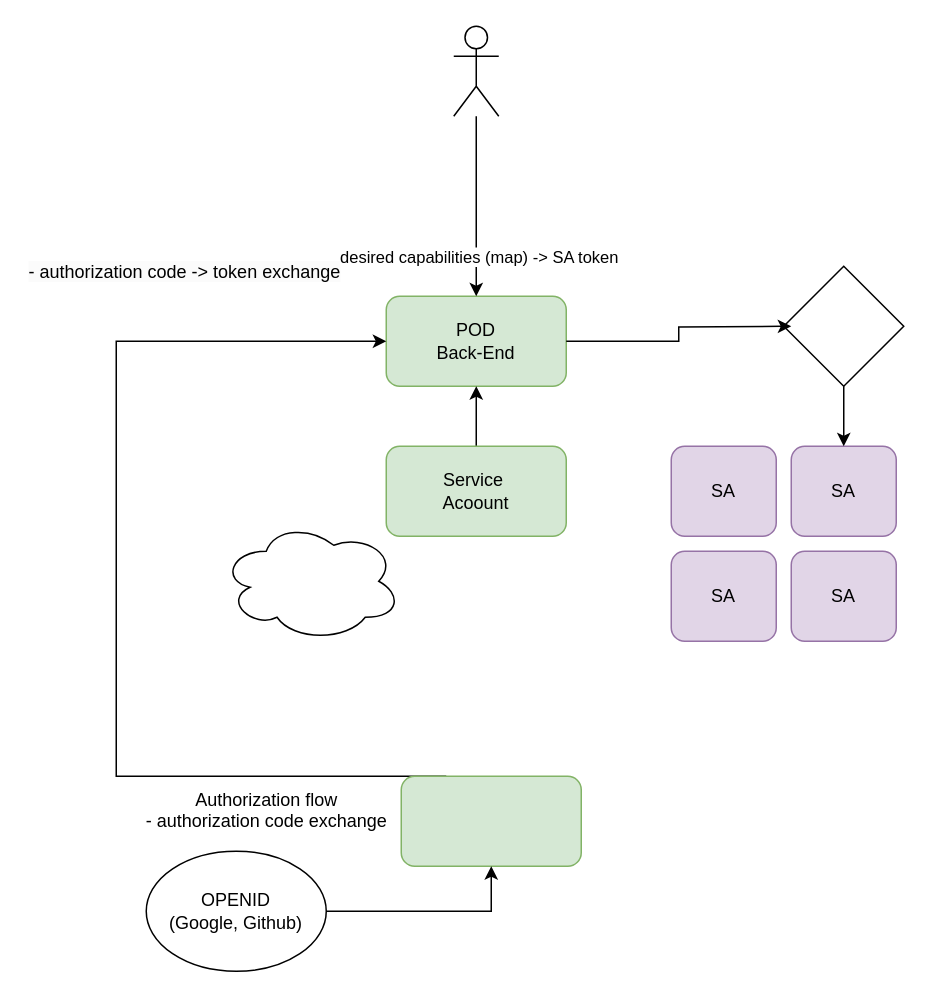
Some shapes in this 930 by 998 pixel diagram are drawn without their labels. Here are the shapes that lost their labels. From the top down, the centre of each, then its label:
At pixel 475 70: "Actor".
At pixel 843 325: "K8".
At pixel 310 580: "ROLES: - CRUD browsers".
At pixel 490 820: "UI".
